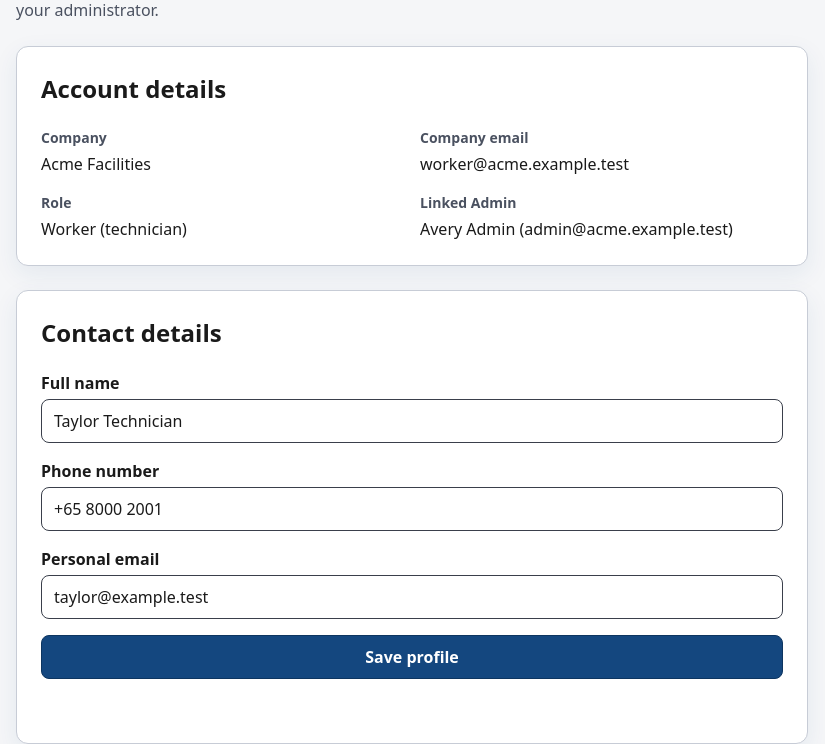
WorkerProfilePage › announces service field errors and blocks duplicate pending saves
(page scrolled)
Expected: the field labelled "Full name" is shown, [41,399,783,443]
Click the button "Save profile" at (412, 657), box [41,635,783,679]
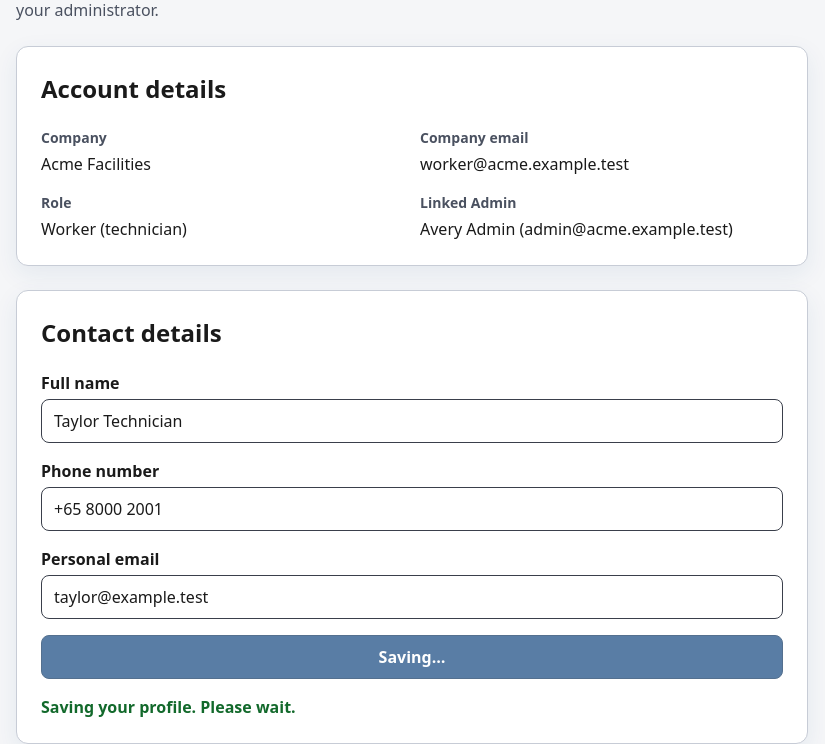
Expected: the button named "Save profile" is disabled, [41,635,783,679]
Submit the form named "Save profile", box [41,371,783,719]
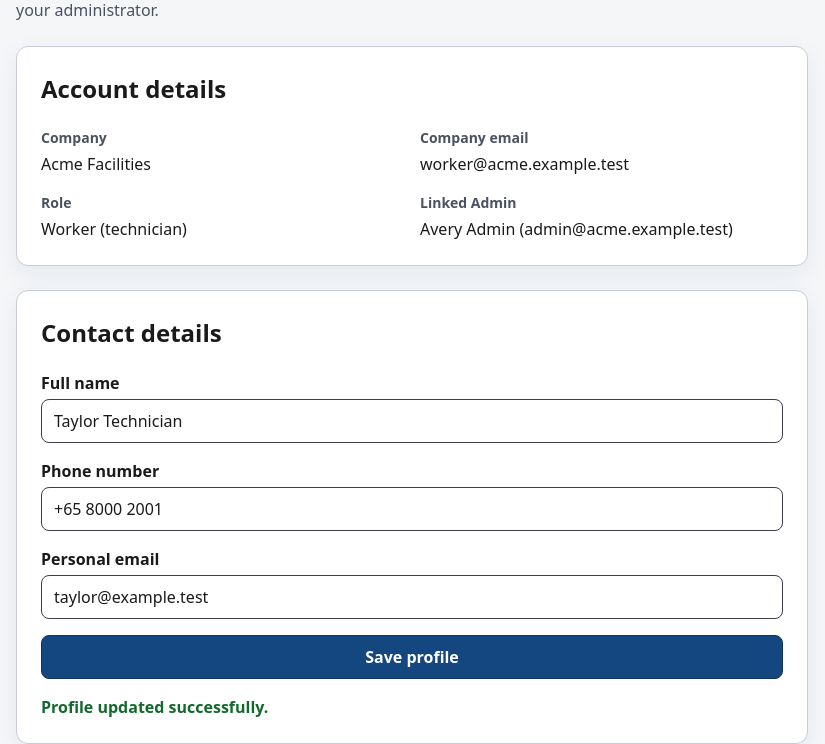
Expected: the text "Profile updated successfully." is shown, [41,696,268,718]
Click the button "Save profile" at (412, 657), box [41,635,783,679]
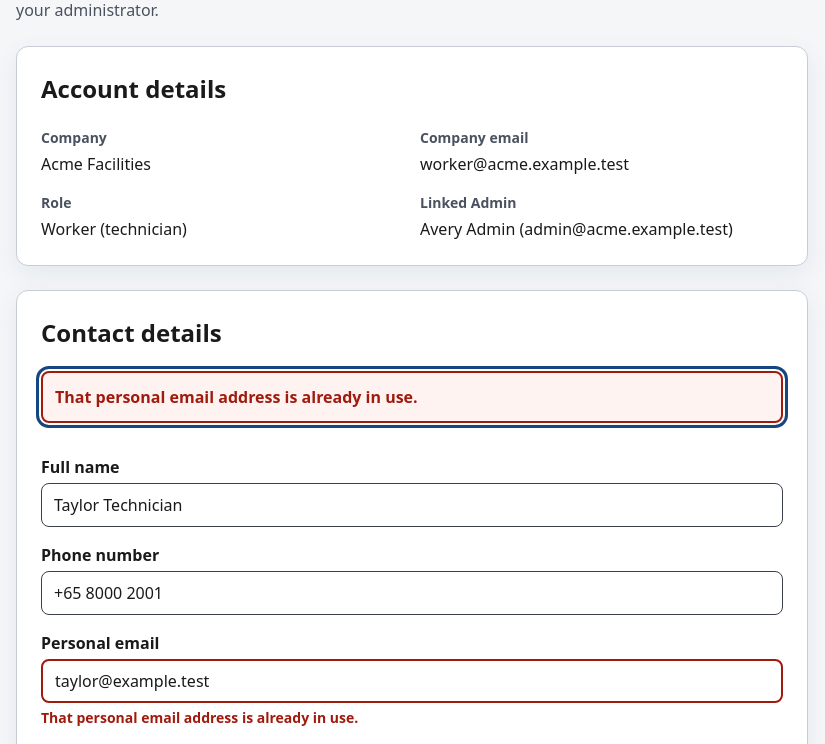
Expected: the message reads "That personal email address is already in use.", [55,386,418,408]
